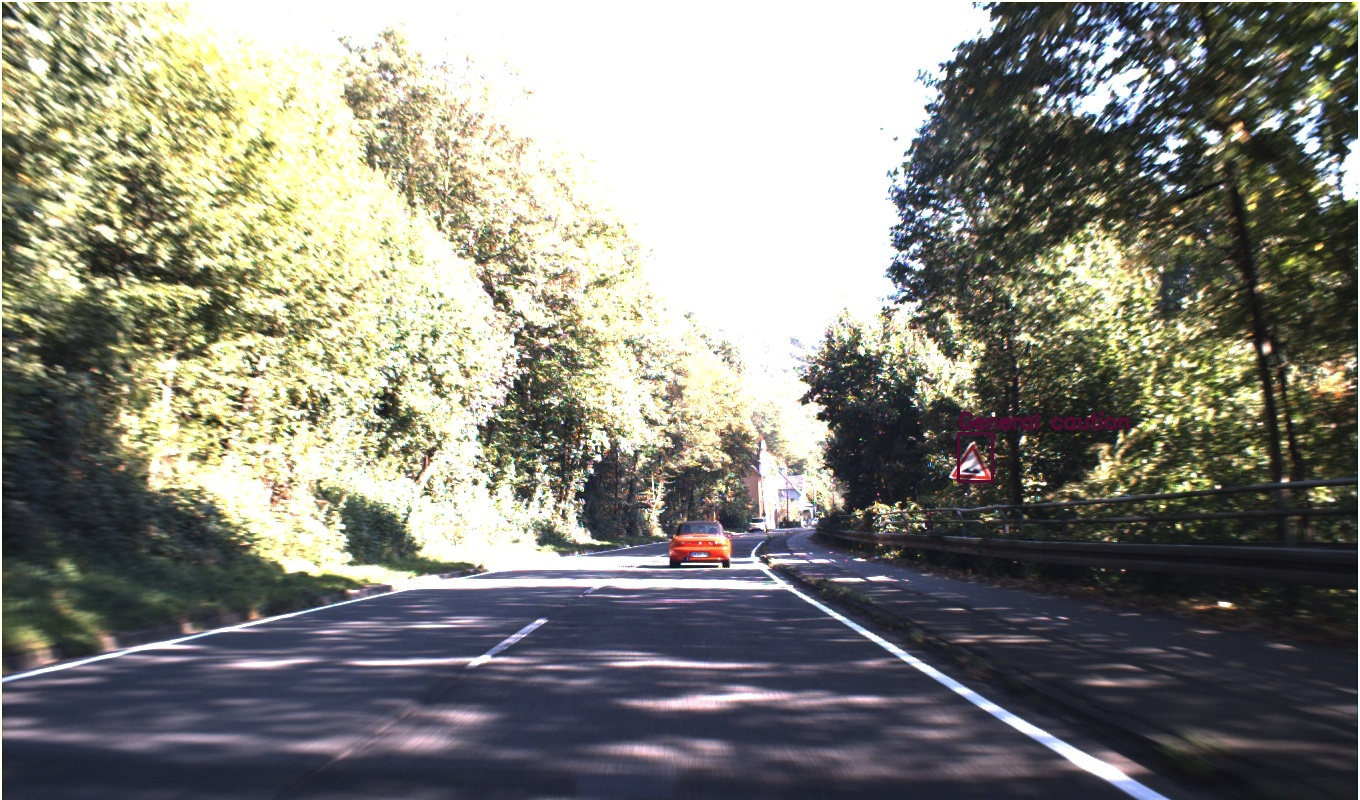Priority road: (826, 469, 848, 492)
